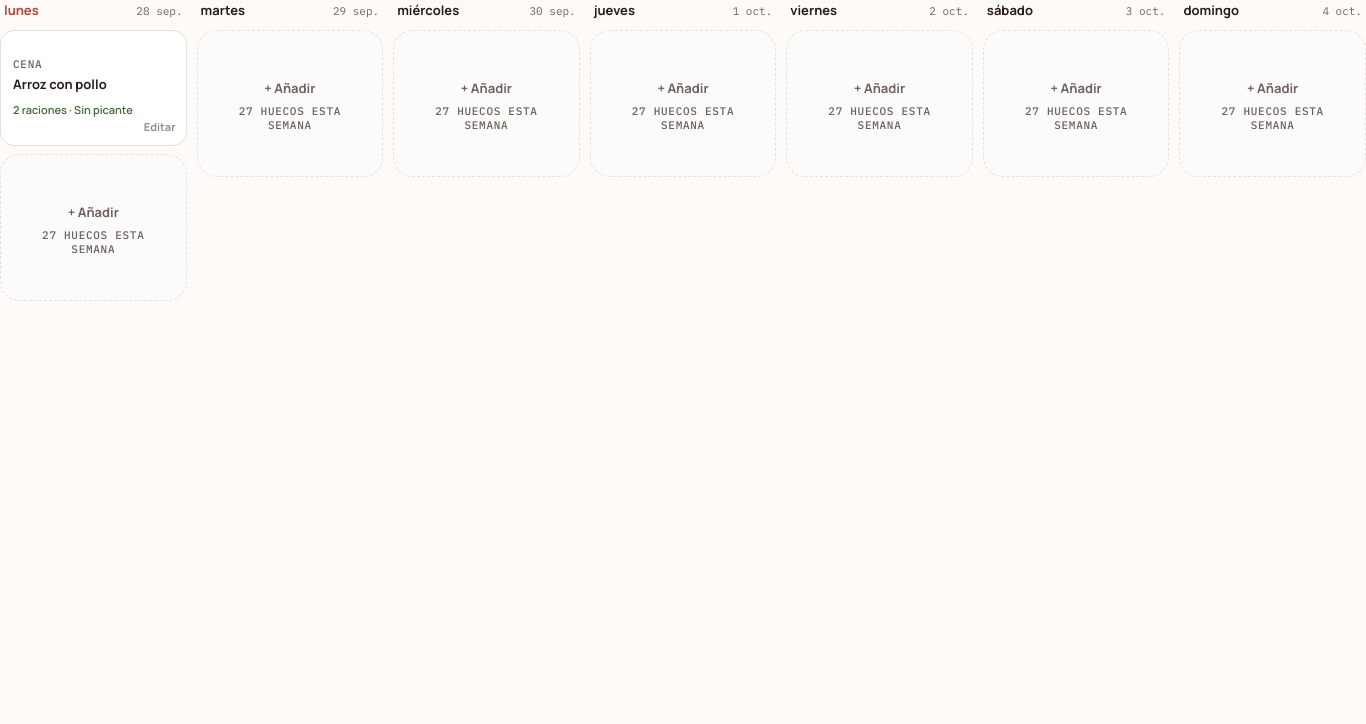
Test: weekly plan board › offers to create the searched recipe without leaving the dialog
Click the button with aria-label "añadir comida el" at coordinates (93, 227), box x1=0 y1=154 x2=187 y2=301
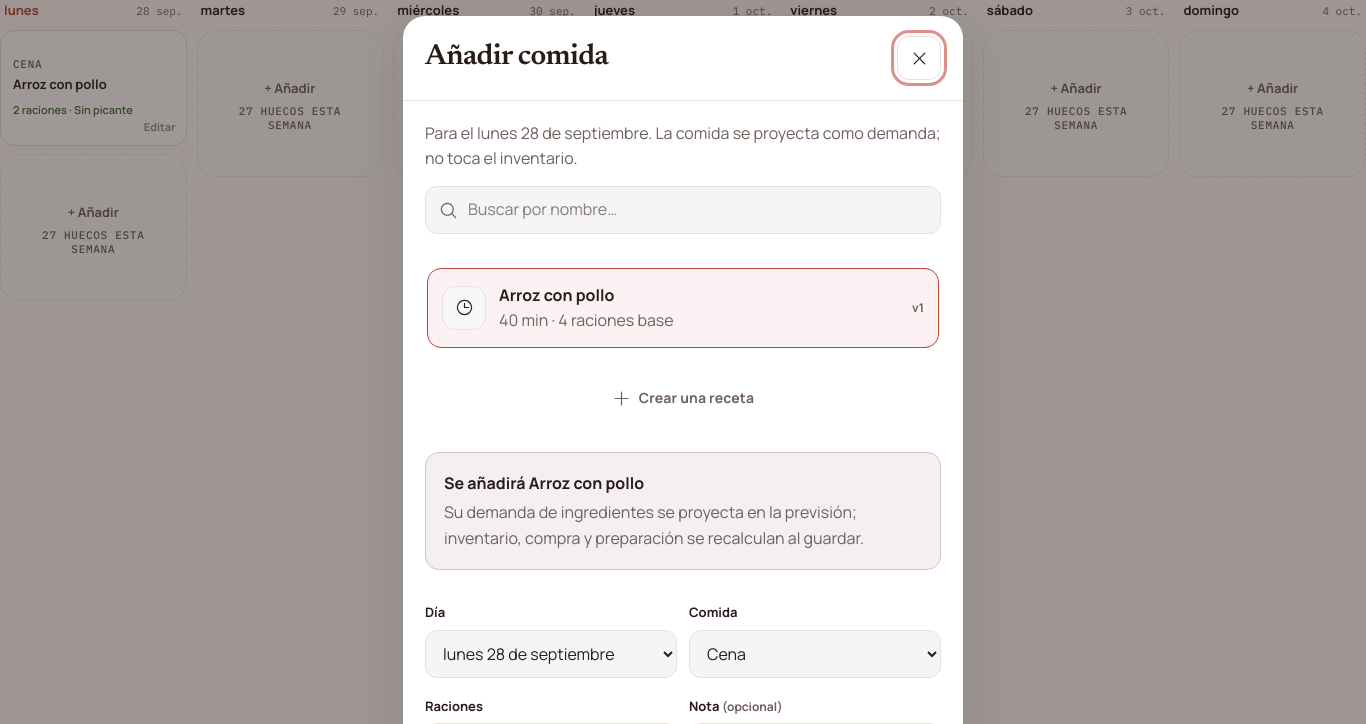
Type "huevos" into the search field named "buscar una receta" at coordinates (683, 210), box x1=425 y1=186 x2=941 y2=234
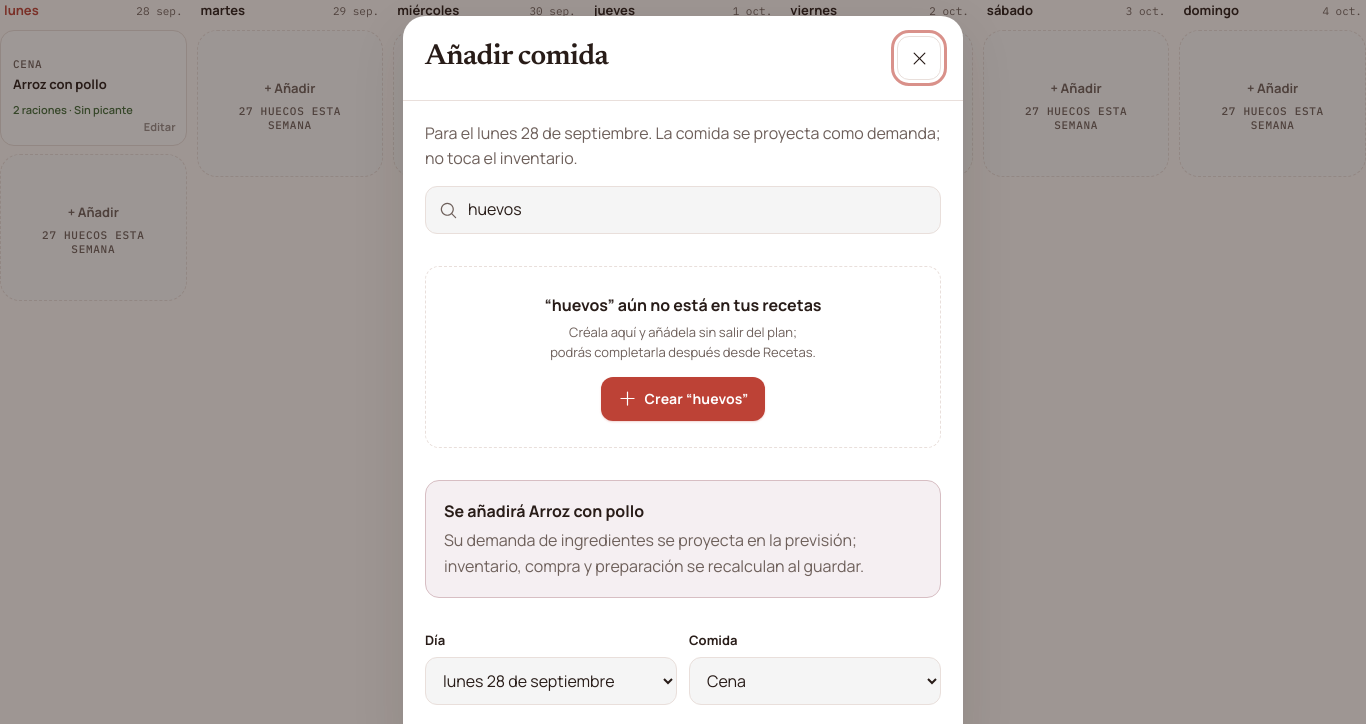
Check: the text "“huevos” aún no está en tus recetas" is shown, box x1=544 y1=294 x2=822 y2=316
Click the button "Crear “huevos”" at coordinates (683, 399), box x1=601 y1=377 x2=766 y2=421
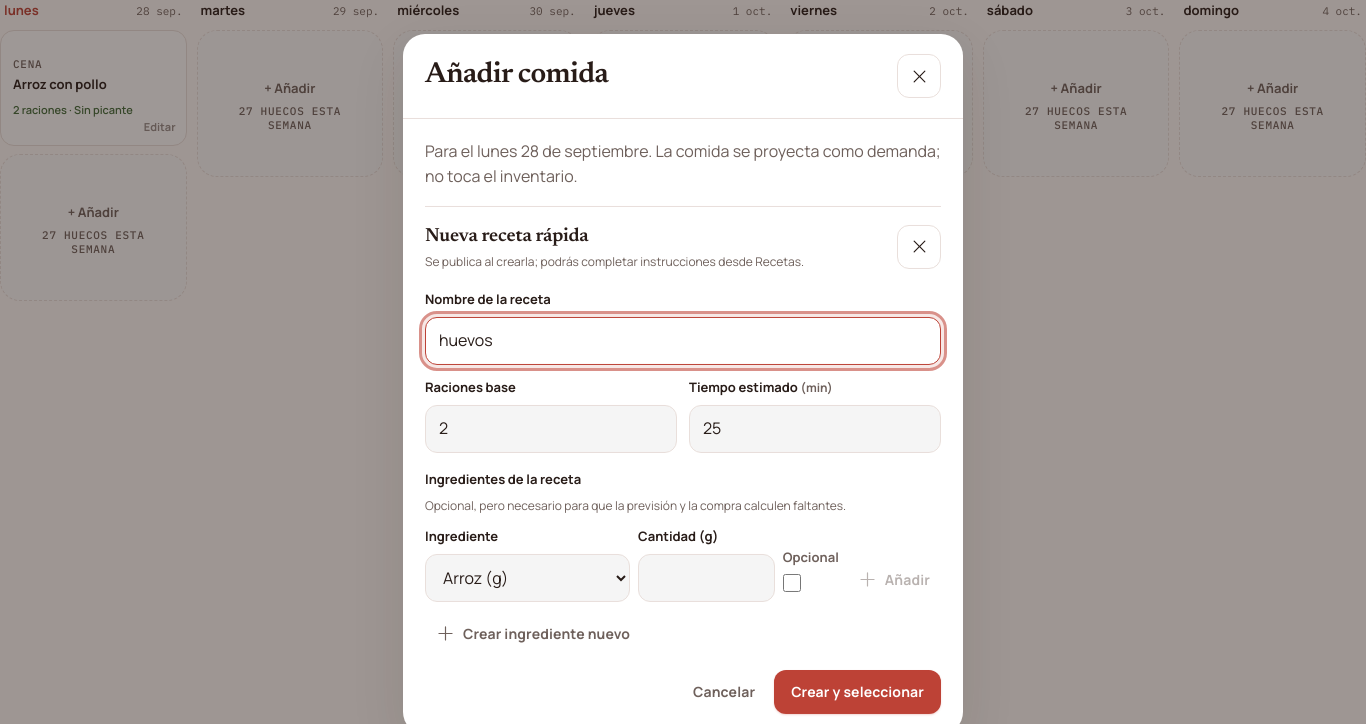
Check: the heading "Nueva receta rápida" is shown, box x1=425 y1=226 x2=588 y2=246
Check: the field labelled "Nombre de la receta" holds "huevos", box x1=425 y1=317 x2=941 y2=365
